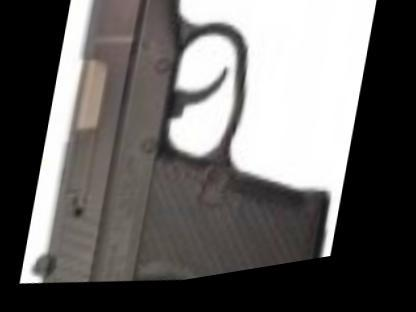pistol: (31, 0, 372, 306)
